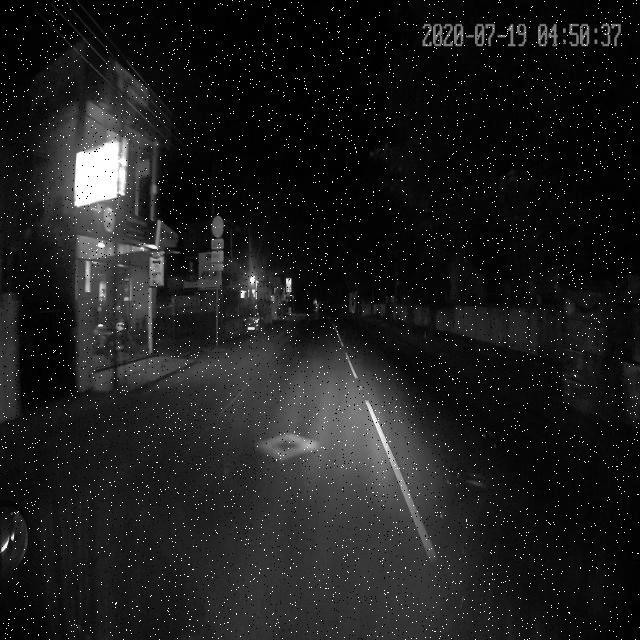diamond: (181, 405, 420, 488)
